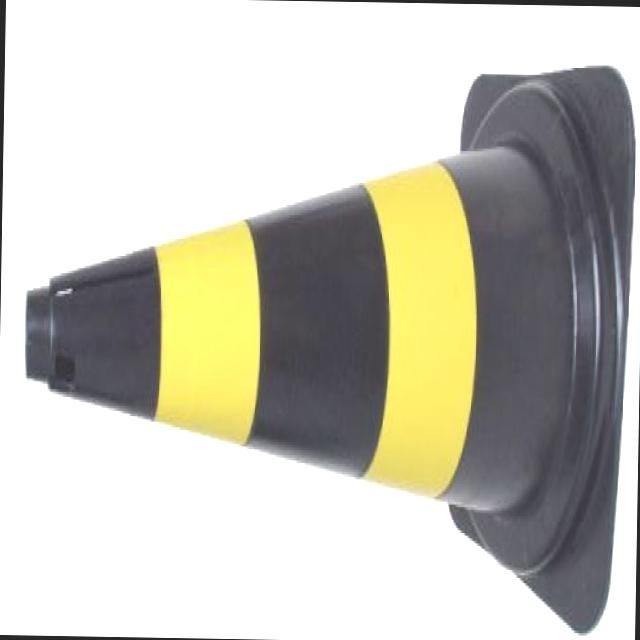cone: (19, 32, 624, 610)
